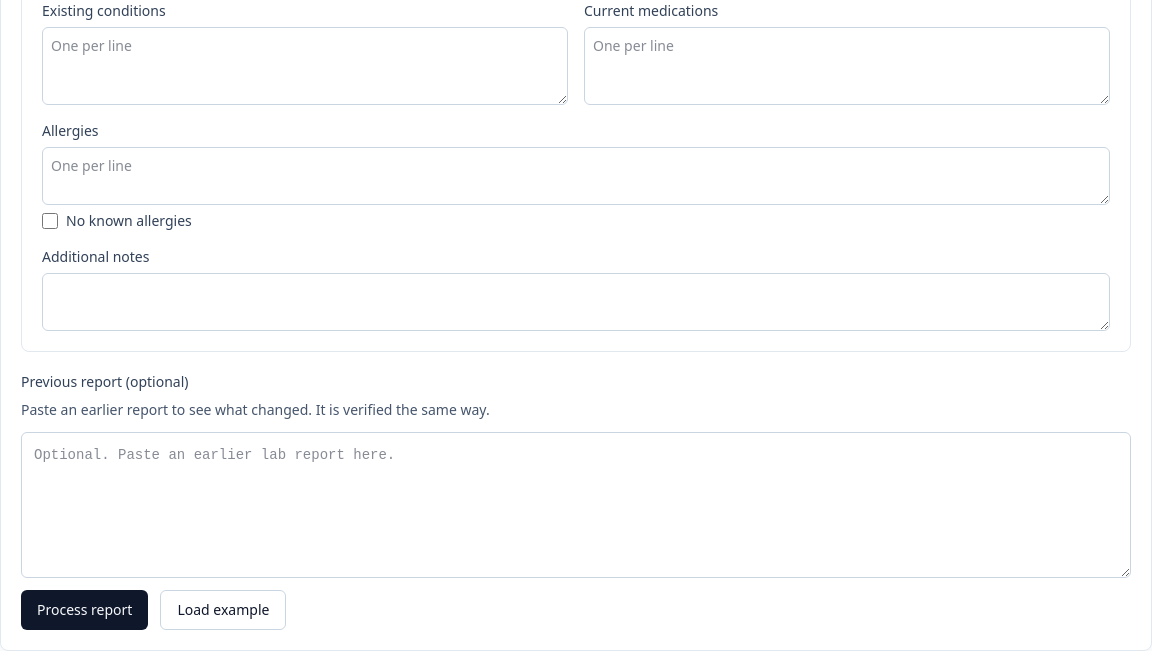
Test: ReportAnalyzer — summary rendering › reports the guardrail result in the integrity panel once a summary exists
(page scrolled)
What coordinates should you click on to do the following:
click the button "Load example"
I would click on:
 (223, 610)
Its box is [160,590,286,630].
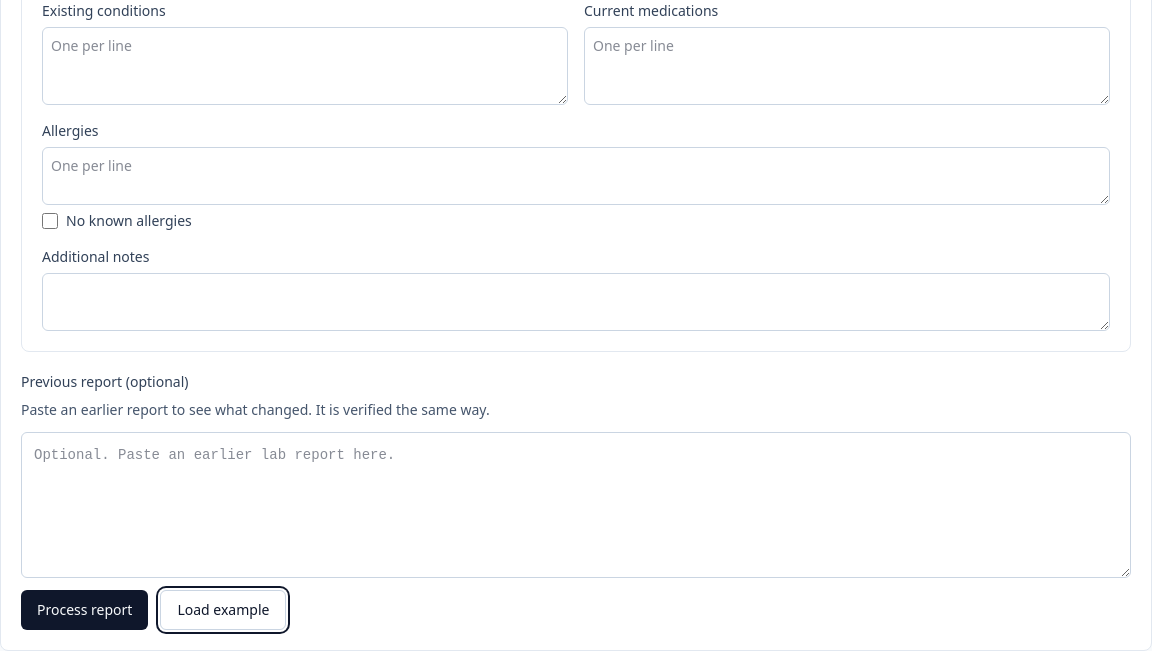
What coordinates should you click on to do the following:
click the button "Process report"
I would click on:
 (85, 610)
Its box is [21,590,148,630].
(page scrolled)
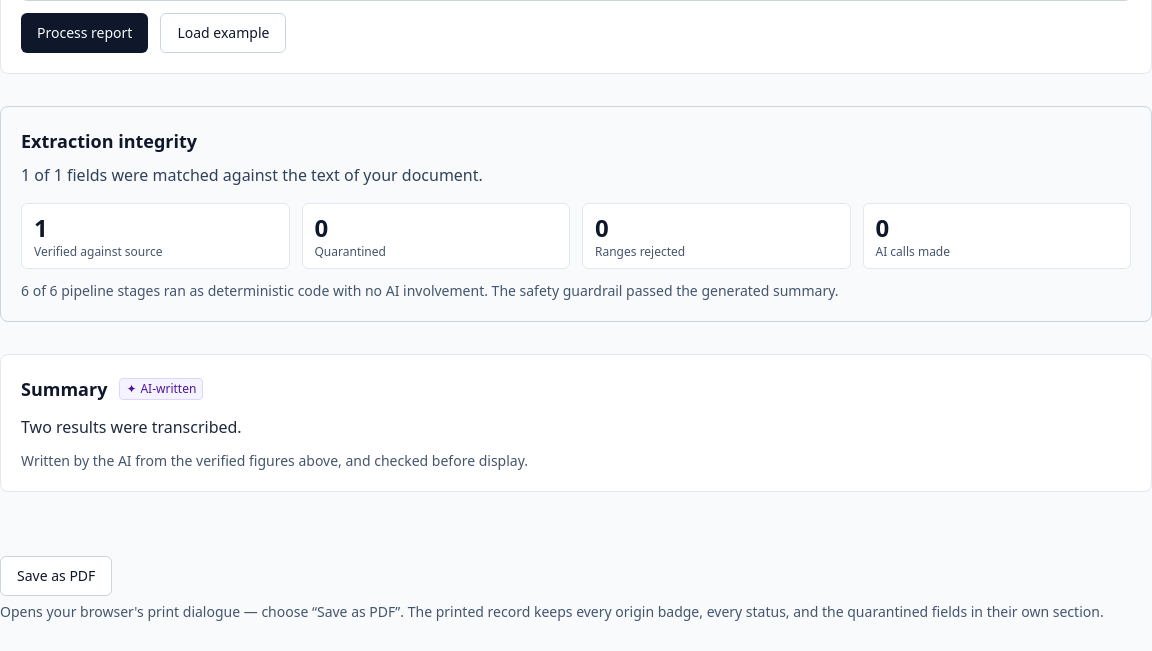
Check: the text "guardrail passed the generated summary" is shown, box [488,281,838,300]
